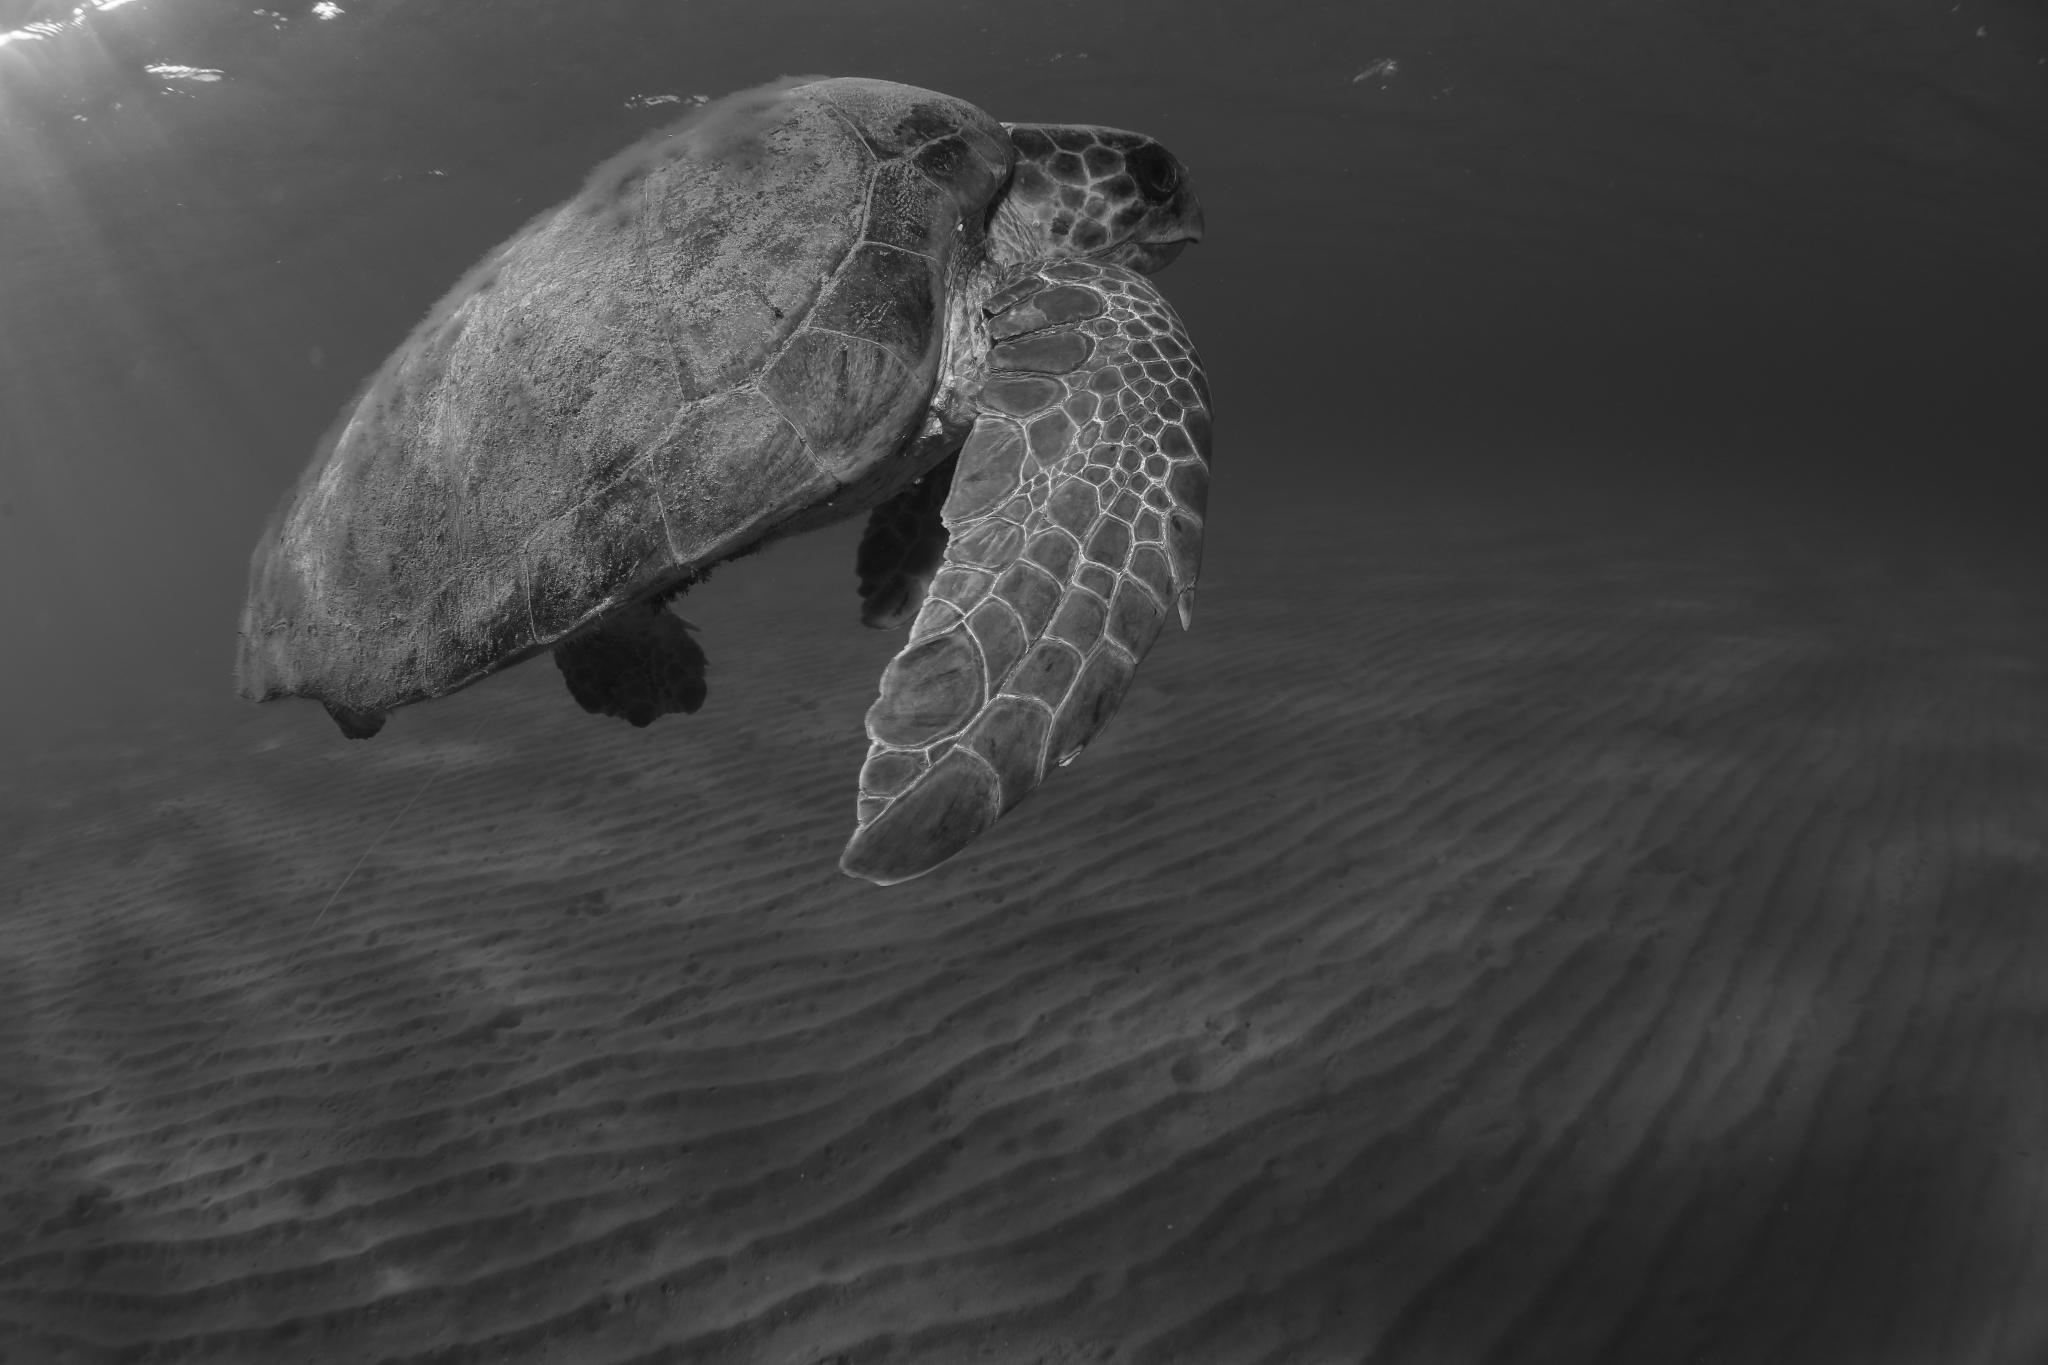Head: (987, 122, 1203, 275)
